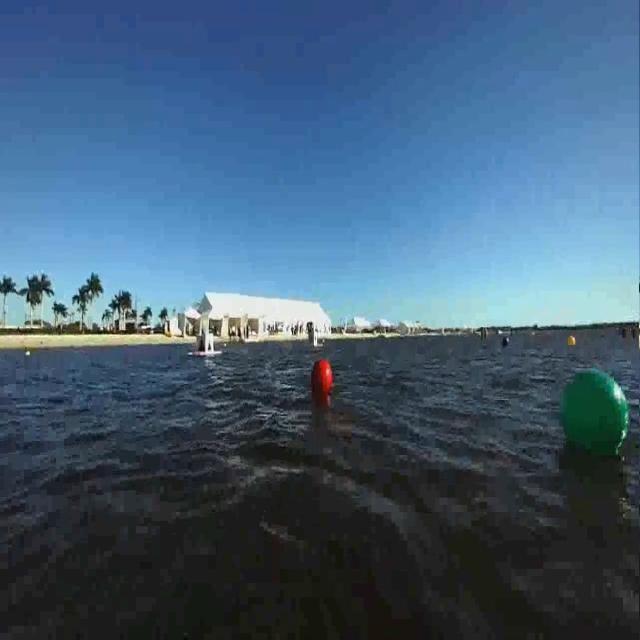blue-buoy: (502, 337, 508, 348)
green-buoy: (560, 368, 630, 459)
red-buoy: (312, 357, 332, 395)
yellow-buoy: (568, 336, 576, 348)
